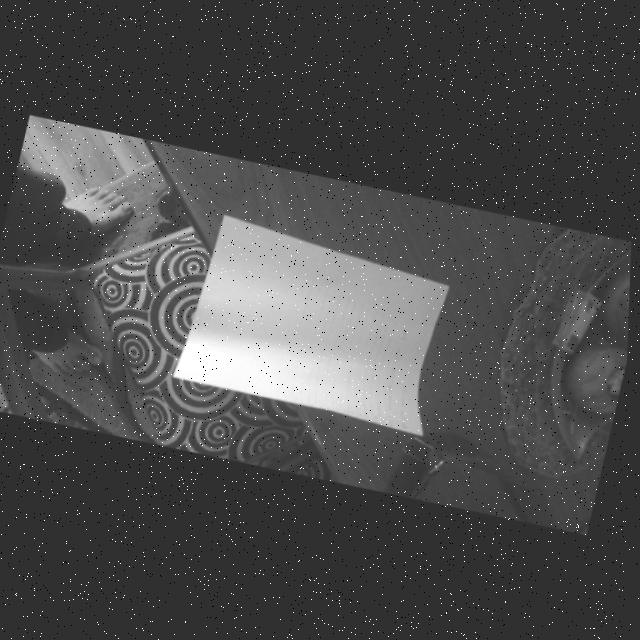document: (175, 215, 449, 435)
